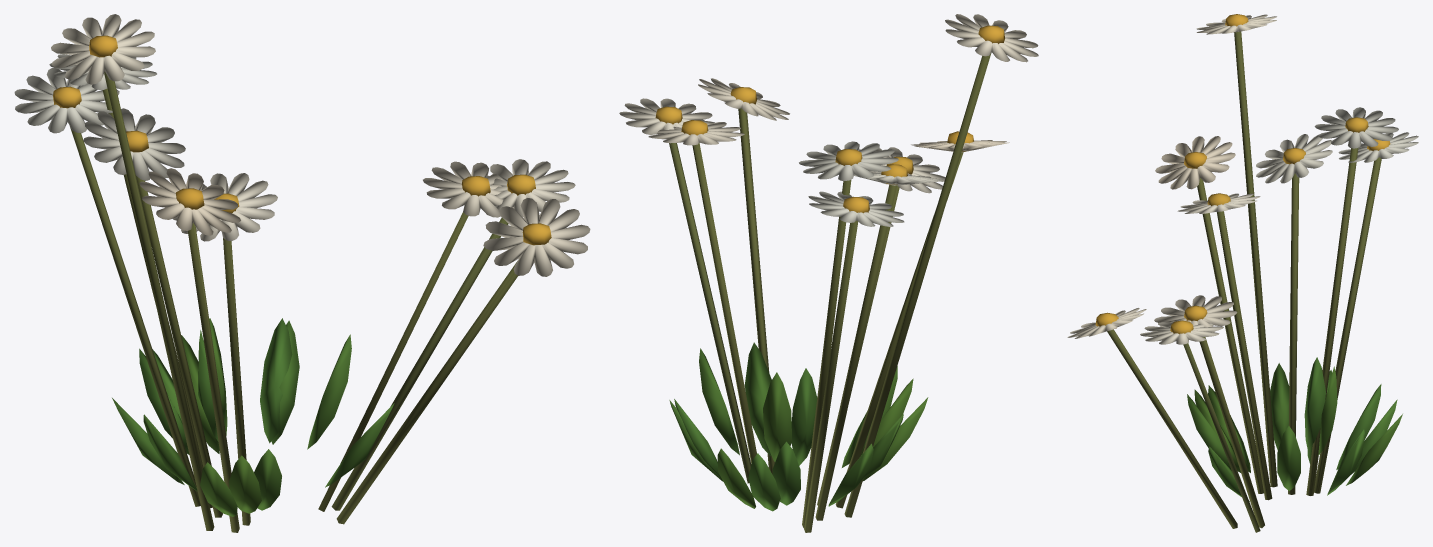
The model's file is bed_daisy.glb.
The picture shows the model from 3 angles, left to right: view 1: azimuth 30°, elevation 25°; view 2: azimuth 150°, elevation 25°; view 3: azimuth 270°, elevation 25°; orthographic projection. The views are drawn at different scales.
Visible parts, largest first — view 1: Sammel Pflanze, Sammel Putz; view 2: Sammel Pflanze, Sammel Putz; view 3: Sammel Pflanze, Sammel Putz.
Boxes of the visible parts, x1,y1,x2,y2 form: Sammel Pflanze: (14, 14, 590, 516); Sammel Putz: (70, 71, 517, 532); Sammel Pflanze: (619, 14, 1038, 511); Sammel Putz: (669, 53, 991, 532); Sammel Pflanze: (1067, 14, 1418, 501); Sammel Putz: (1107, 31, 1381, 532).
Bounding box in the file's own units: 0.3521 × 0.3867 × 0.29.
